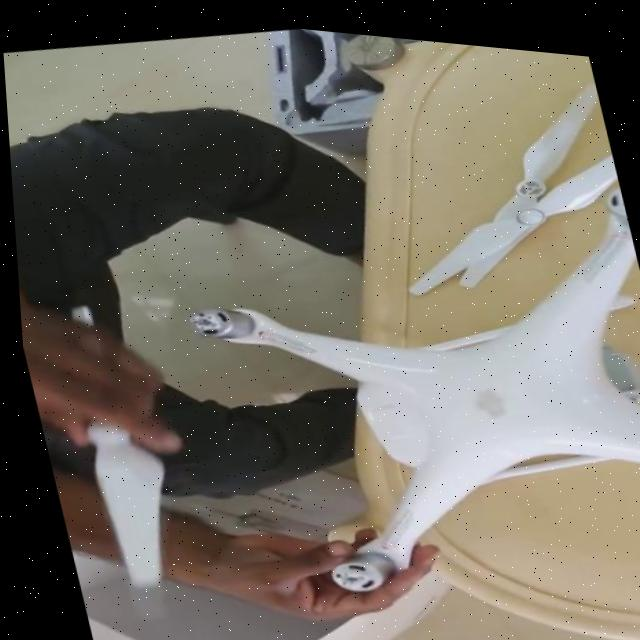drones: (101, 115, 640, 640)
